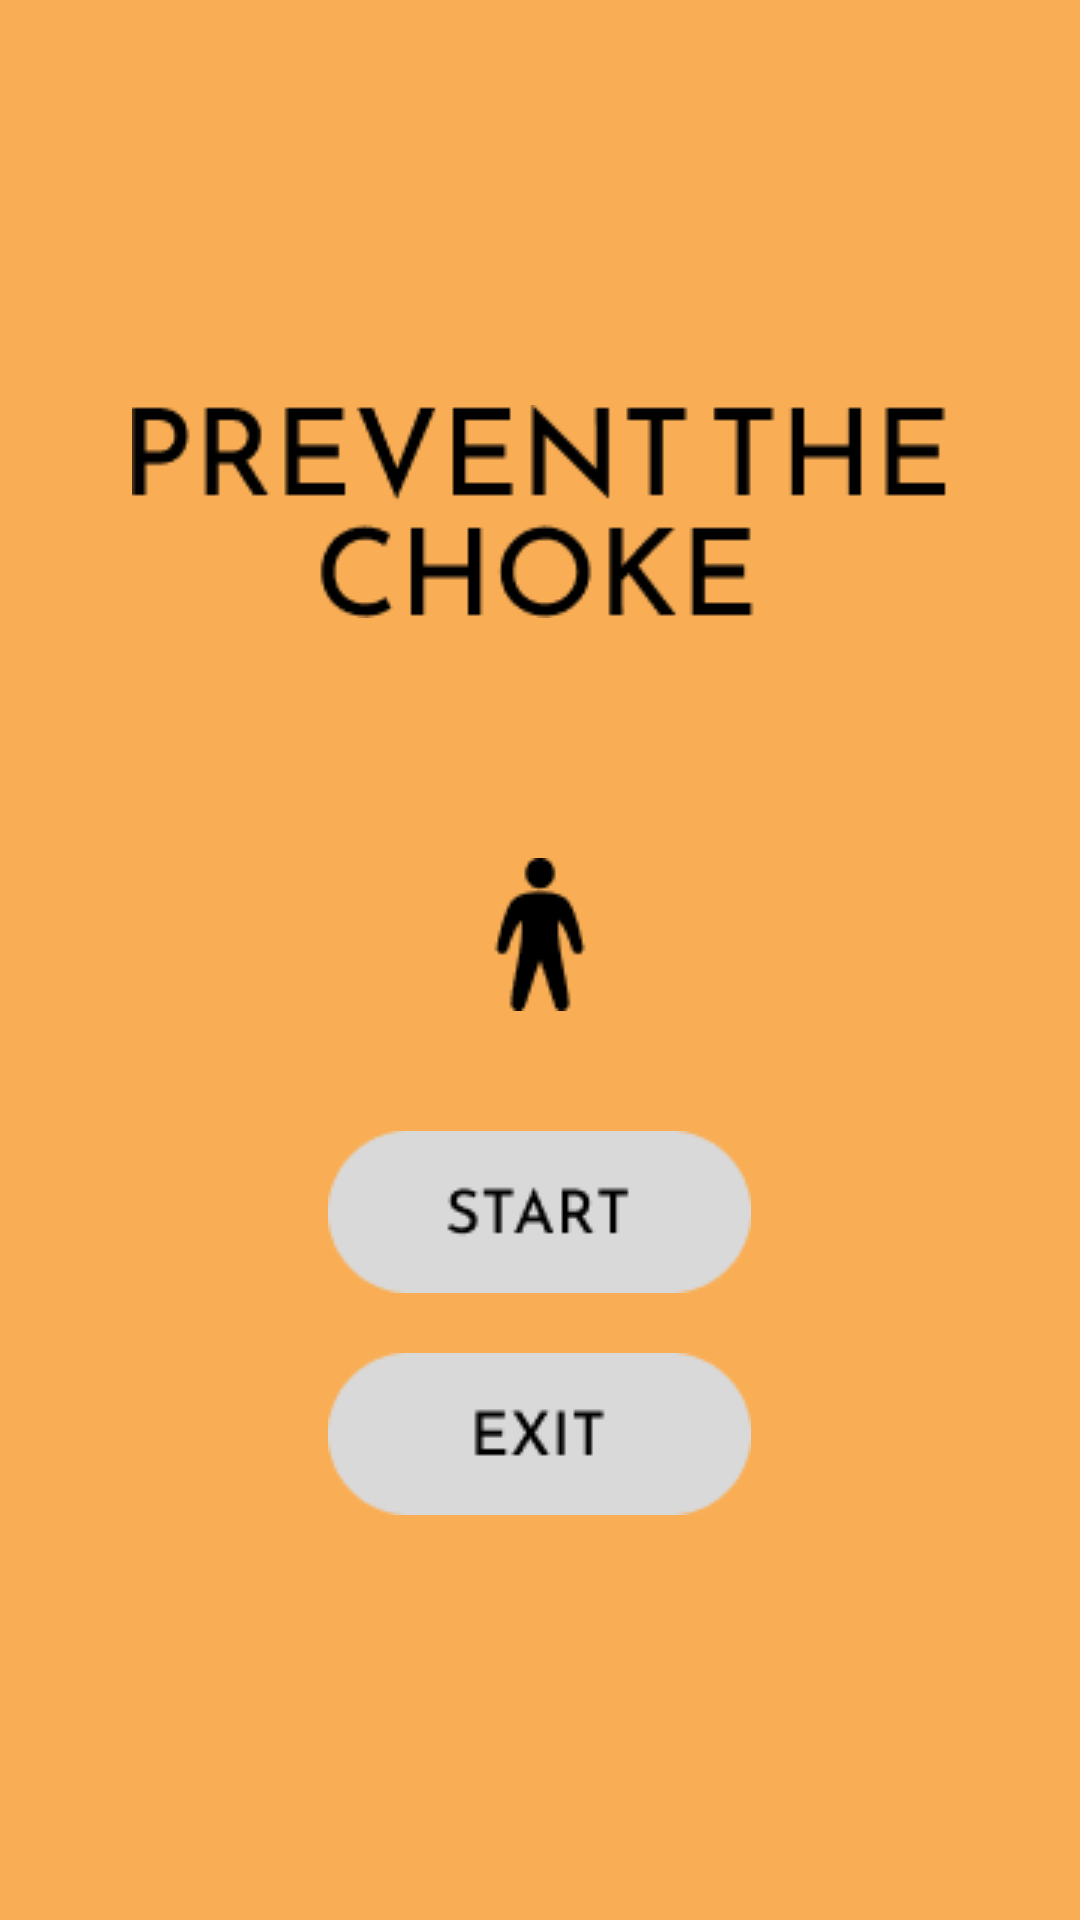

Named icons in this screenshot (1080w x 1920h) and their bounding boxes, (x1, y1, x2, y2):
character: (494, 858, 586, 1011)
